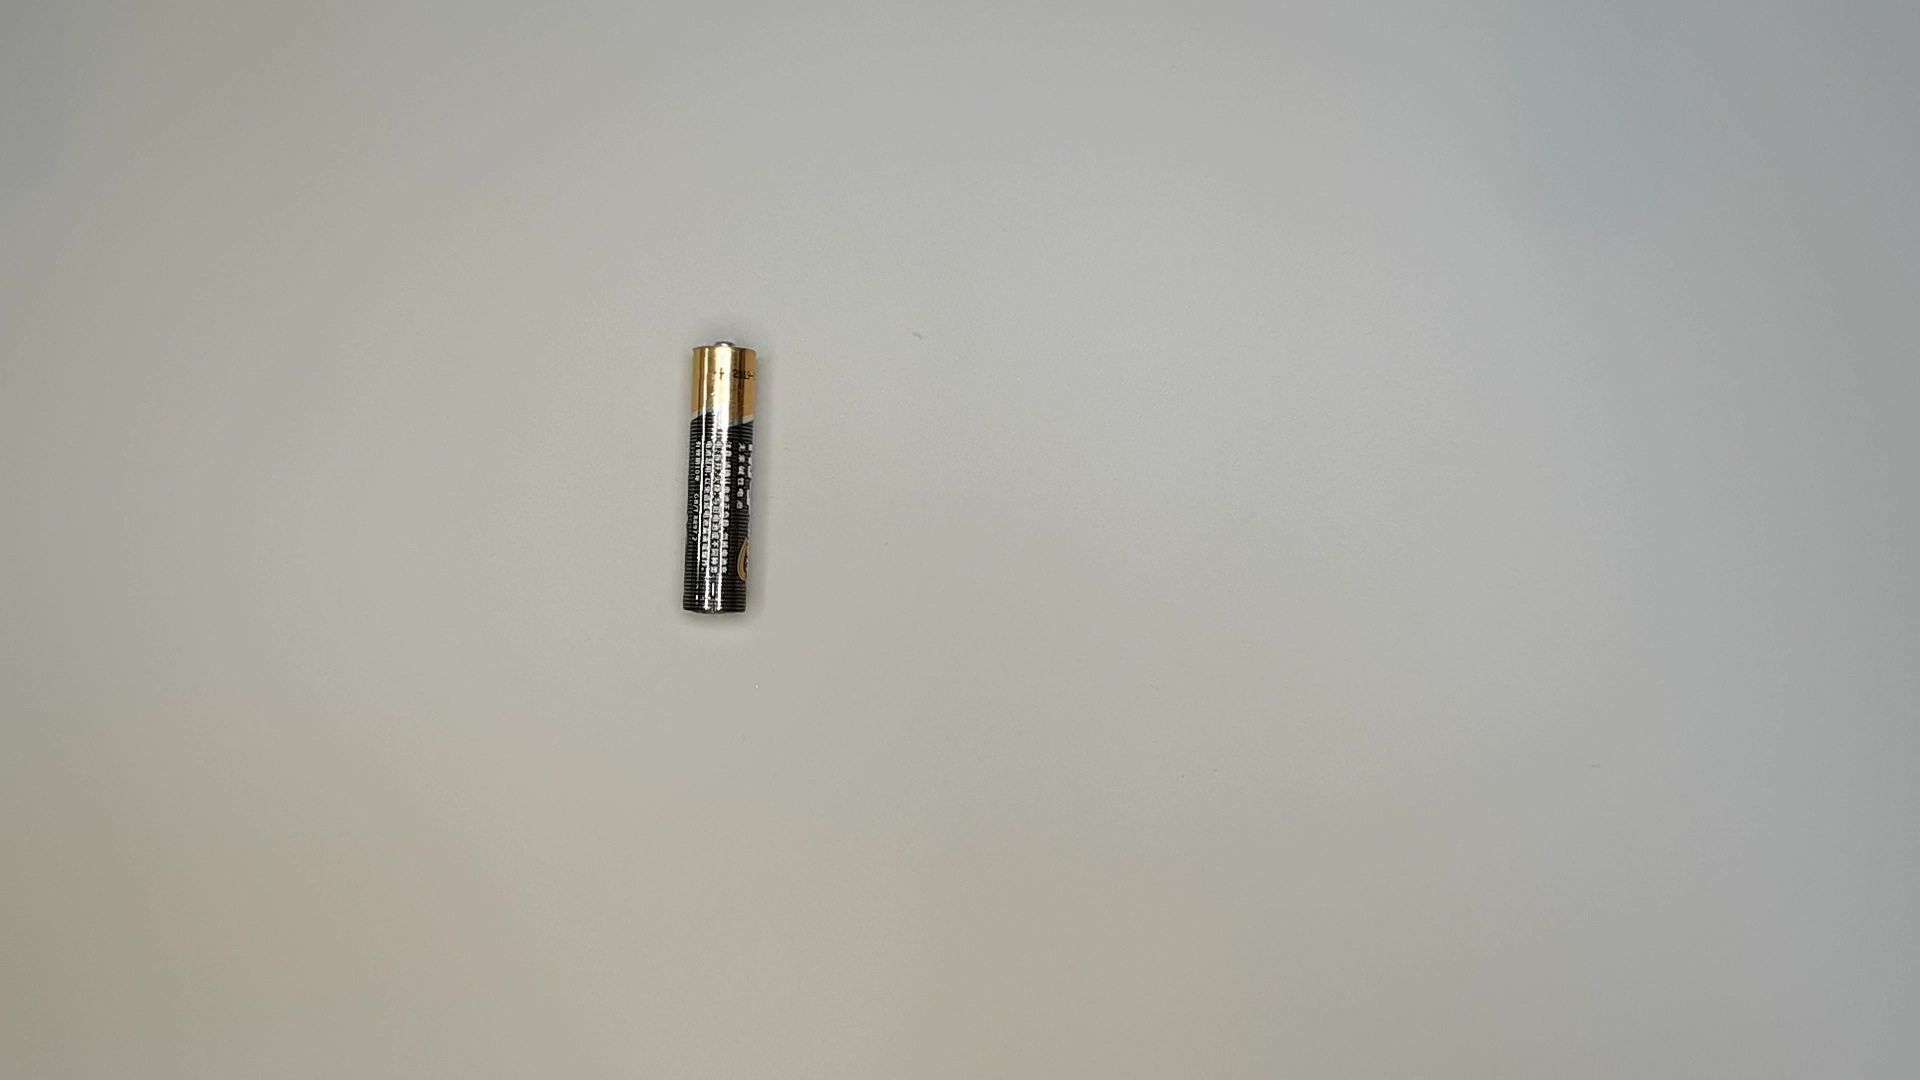battery: (680, 342, 760, 620)
